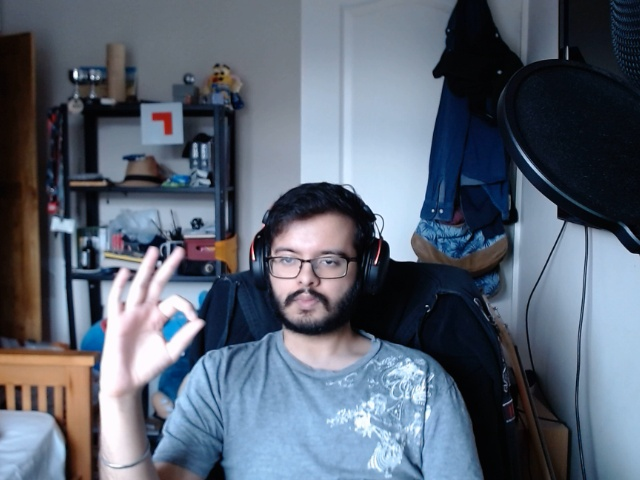Okay: (92, 236, 206, 402)
